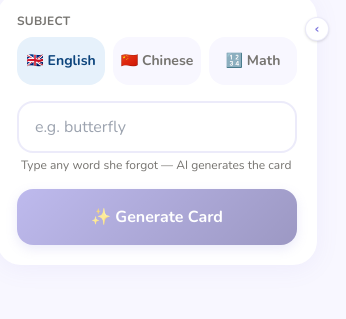
Test: InputPanel › shows error message when generateCard throws
Step 1. Type "butterfly" into the field labelled "e.g. butterfly" → (157, 127), box [17, 101, 297, 153]
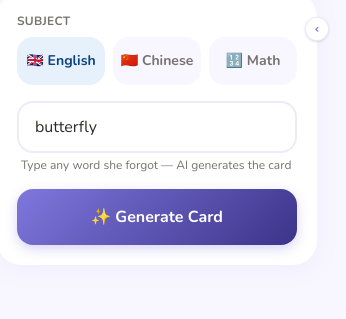
Step 2. Click the button labelled "✨ Generate Card" → click(157, 217), box [17, 189, 297, 245]
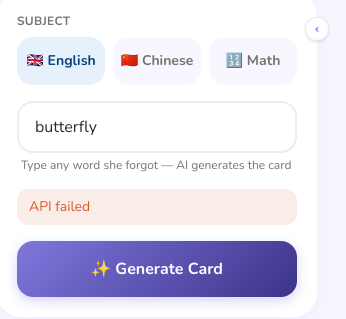
Now the text "API failed" is shown, box [17, 189, 297, 225]
